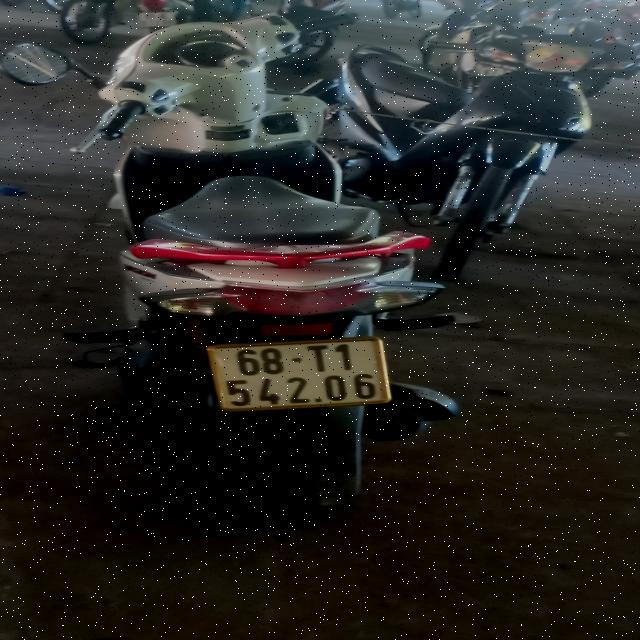0: (325, 375, 346, 401)
1: (333, 344, 354, 371)
2: (286, 376, 311, 404)
4: (260, 378, 280, 407)
5: (227, 379, 250, 406)
6: (236, 348, 260, 376), (355, 373, 377, 400)
8: (261, 348, 284, 376)
T: (308, 344, 330, 372)
